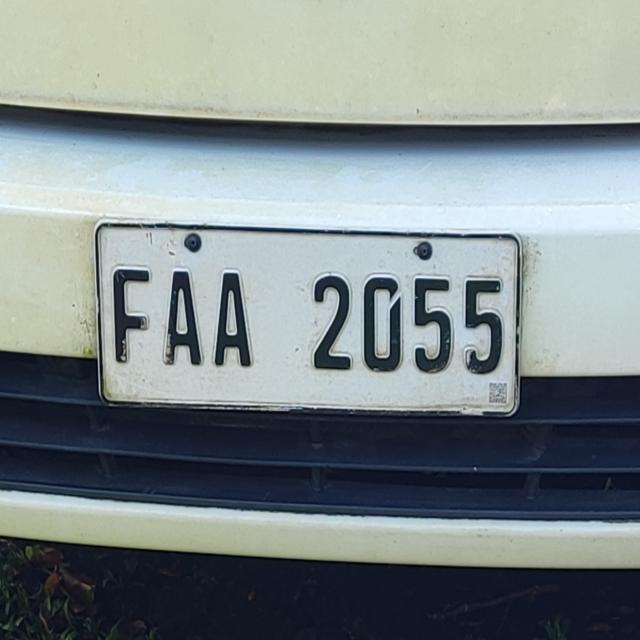LicensePlate: (83, 214, 537, 424)
